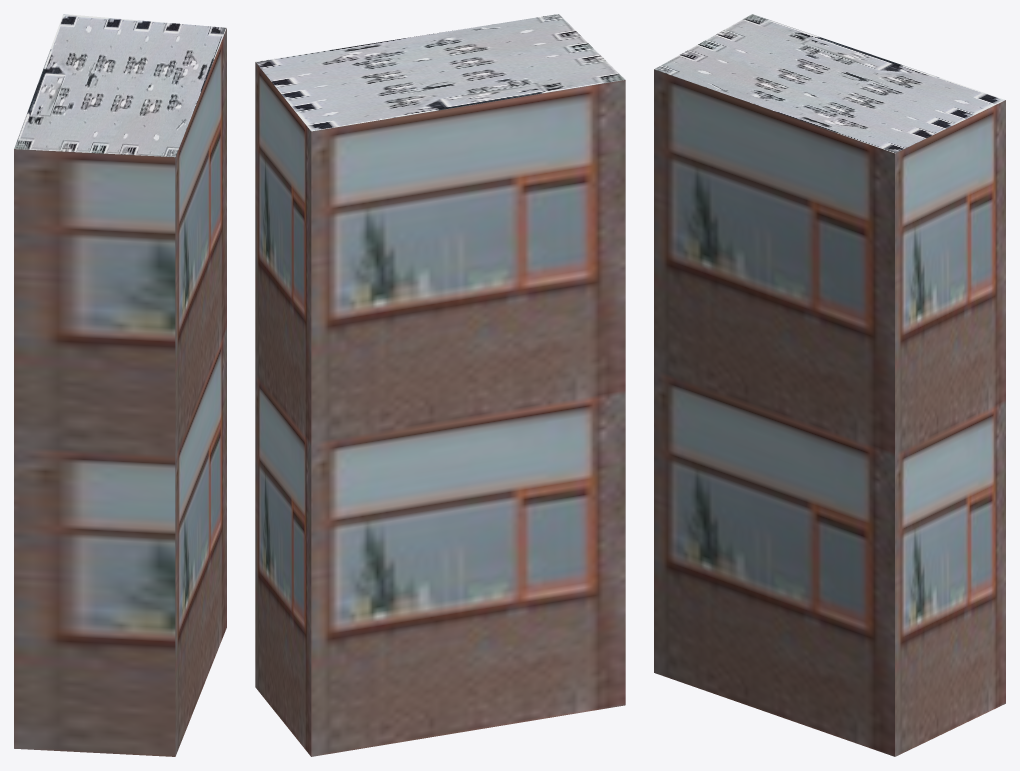
File: ResTex__3760.fbx
The picture shows the model from 3 angles, left to right: view 1: azimuth 30°, elevation 25°; view 2: azimuth 150°, elevation 25°; view 3: azimuth 270°, elevation 25°; orthographic projection. The views are drawn at different scales.
Parts seen in each view (by area): view 1: CityEngineMaterial_19_m, CityEngineMaterial_15_m; view 2: CityEngineMaterial_19_m, CityEngineMaterial_15_m; view 3: CityEngineMaterial_19_m, CityEngineMaterial_15_m.
Part boxes in pixels (x1=…): CityEngineMaterial_19_m: x1=14, y1=28, x2=226, y2=756; CityEngineMaterial_15_m: x1=14, y1=14, x2=226, y2=157; CityEngineMaterial_19_m: x1=255, y1=62, x2=625, y2=756; CityEngineMaterial_15_m: x1=255, y1=14, x2=625, y2=131; CityEngineMaterial_19_m: x1=654, y1=69, x2=1005, y2=756; CityEngineMaterial_15_m: x1=654, y1=14, x2=1005, y2=153.
Bounding box in the file's own units: 2.97 × 6 × 3.17.
Materials: 2 (2 with a texture image).
